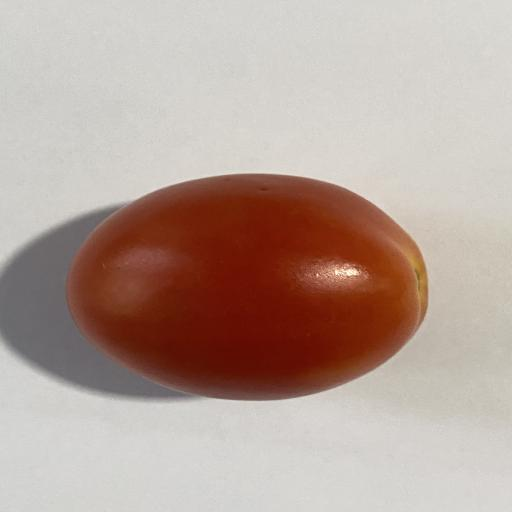ripe: (67, 174, 428, 400)
